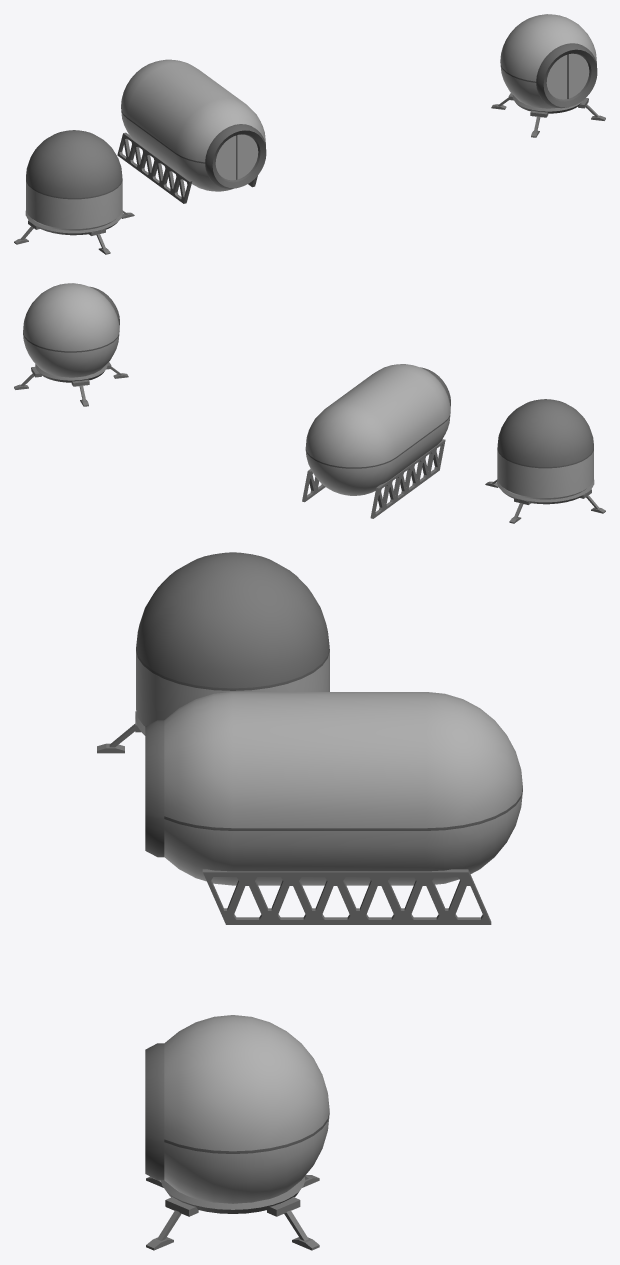
The model's file is pp_house_pod.glb.
3 renders of one model, top to bottom at view 1: azimuth 30°, elevation 25°; view 2: azimuth 150°, elevation 25°; view 3: azimuth 270°, elevation 25°, orthographic. The views are drawn at different scales.
Visible parts, largest first — view 1: House_Cylinder; view 2: House_Cylinder; view 3: House_Cylinder.
Part boxes in pixels (bbox=[...]): House_Cylinder: bbox=[14, 14, 605, 254]; House_Cylinder: bbox=[14, 283, 605, 523]; House_Cylinder: bbox=[97, 552, 522, 1250].
Bounding box in the file's own units: 27.4 × 4.32 × 8.79.
Materials: 1 (1 with a texture image).
